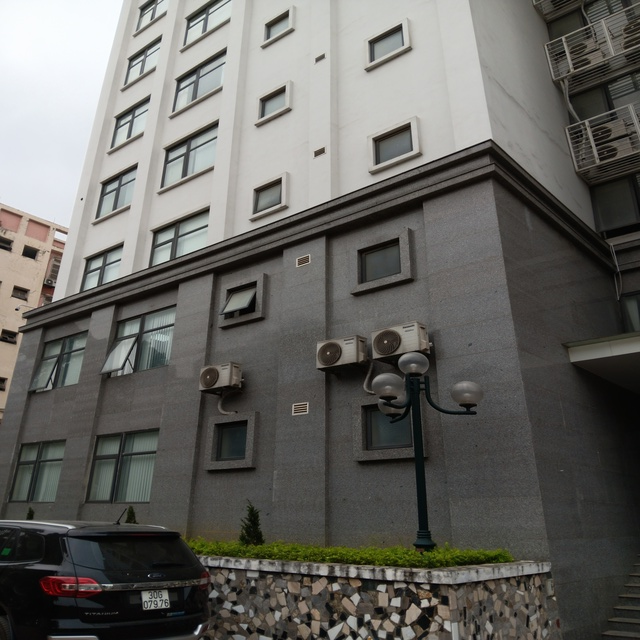cotden: (366, 349, 482, 555)
